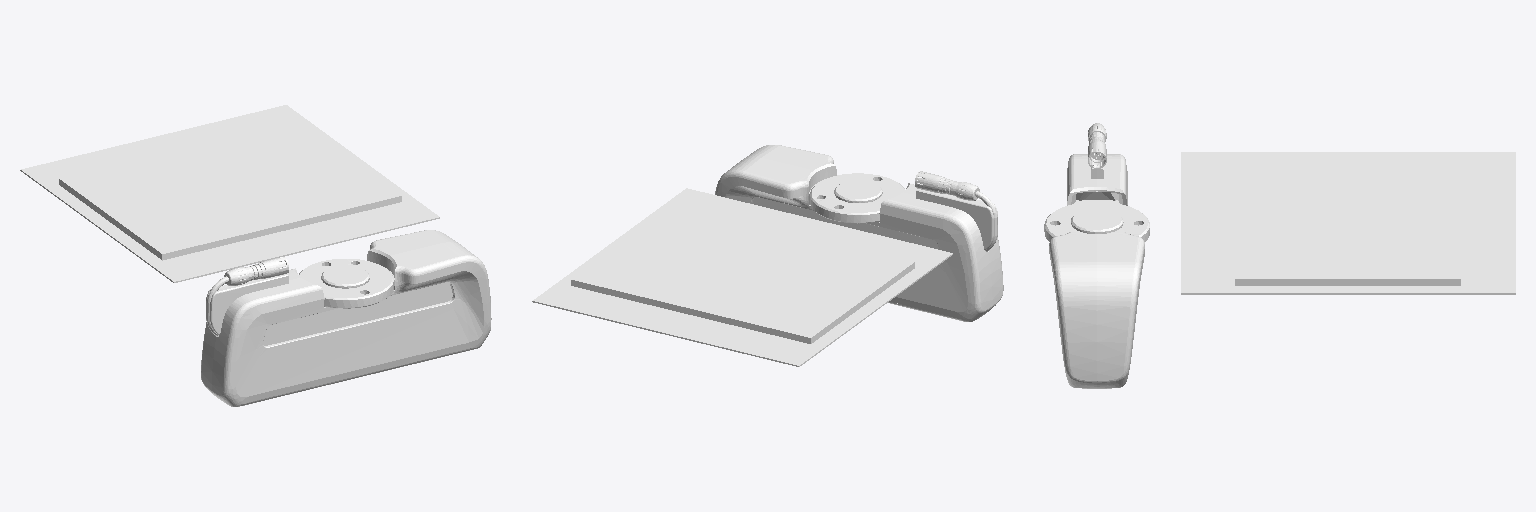
URDF robot description (panda):
<?xml version="1.0" ?>
<!-- =================================================================================== -->
<!-- |    This document was autogenerated by xacro from panda_arm_hand.urdf.xacro      | -->
<!-- |    EDITING THIS FILE BY HAND IS NOT RECOMMENDED                                 | -->
<!-- =================================================================================== -->
<robot name="panda" xmlns:xacro="http://www.ros.org/wiki/xacro">
  <link name="panda_link0">
    <visual>
      <geometry>
        <mesh filename="meshes/visual/link0.obj"/>
      </geometry>
      <material name="panda_white"/>
    </visual>
    <collision>
      <geometry>
        <mesh filename="meshes/collision/link0.obj"/>
      </geometry>
      <material name="panda_white"/>
    </collision>
  </link>
  <link name="panda_link1">
    <visual>
      <geometry>
        <mesh filename="meshes/visual/link1.obj"/>
      </geometry>
      <material name="panda_white"/>
    </visual>
    <collision>
      <geometry>
        <mesh filename="meshes/collision/link1.obj"/>
      </geometry>
      <material name="panda_white"/>
    </collision>
  </link>
  <joint name="panda_joint1" type="revolute">
    <safety_controller k_position="100.0" k_velocity="40.0" soft_lower_limit="-2.8973" soft_upper_limit="2.8973"/>
    <origin rpy="0 0 0" xyz="0 0 0.333"/>
    <parent link="panda_link0"/>
    <child link="panda_link1"/>
    <axis xyz="0 0 1"/>
    <limit effort="87" lower="-2.9671" upper="2.9671" velocity="2.1750"/>
  </joint>
  <link name="panda_link2">
    <visual>
      <geometry>
        <mesh filename="meshes/visual/link2.obj"/>
      </geometry>
      <material name="panda_white"/>
    </visual>
    <collision>
      <geometry>
        <mesh filename="meshes/collision/link2.obj"/>
      </geometry>
      <material name="panda_white"/>
    </collision>
  </link>
  <joint name="panda_joint2" type="revolute">
    <safety_controller k_position="100.0" k_velocity="40.0" soft_lower_limit="-1.7628" soft_upper_limit="1.7628"/>
    <origin rpy="-1.57079632679 0 0" xyz="0 0 0"/>
    <parent link="panda_link1"/>
    <child link="panda_link2"/>
    <axis xyz="0 0 1"/>
    <limit effort="87" lower="-1.8326" upper="1.8326" velocity="2.1750"/>
  </joint>
  <link name="panda_link3">
    <visual>
      <geometry>
        <mesh filename="meshes/visual/link3.obj"/>
      </geometry>
      <material name="panda_white"/>
    </visual>
    <collision>
      <geometry>
        <mesh filename="meshes/collision/link3.obj"/>
      </geometry>
      <material name="panda_white"/>
    </collision>
  </link>
  <joint name="panda_joint3" type="revolute">
    <safety_controller k_position="100.0" k_velocity="40.0" soft_lower_limit="-2.8973" soft_upper_limit="2.8973"/>
    <origin rpy="1.57079632679 0 0" xyz="0 -0.316 0"/>
    <parent link="panda_link2"/>
    <child link="panda_link3"/>
    <axis xyz="0 0 1"/>
    <limit effort="87" lower="-2.9671" upper="2.9671" velocity="2.1750"/>
  </joint>
  <link name="panda_link4">
    <visual>
      <geometry>
        <mesh filename="meshes/visual/link4.obj"/>
      </geometry>
      <material name="panda_white"/>
    </visual>
    <collision>
      <geometry>
        <mesh filename="meshes/collision/link4.obj"/>
      </geometry>
      <material name="panda_white"/>
    </collision>
  </link>
  <joint name="panda_joint4" type="revolute">
    <safety_controller k_position="100.0" k_velocity="40.0" soft_lower_limit="-3.0718" soft_upper_limit="-0.0698"/>
    <origin rpy="1.57079632679 0 0" xyz="0.0825 0 0"/>
    <parent link="panda_link3"/>
    <child link="panda_link4"/>
    <axis xyz="0 0 1"/>
    <limit effort="87" lower="-3.1416" upper="0.0" velocity="2.1750"/>
  </joint>
  <link name="panda_link5">
    <visual>
      <geometry>
        <mesh filename="meshes/visual/link5.obj"/>
      </geometry>
      <material name="panda_white"/>
    </visual>
    <collision>
      <geometry>
        <mesh filename="meshes/collision/link5.obj"/>
      </geometry>
      <material name="panda_white"/>
    </collision>
  </link>
  <joint name="panda_joint5" type="revolute">
    <safety_controller k_position="100.0" k_velocity="40.0" soft_lower_limit="-2.8973" soft_upper_limit="2.8973"/>
    <origin rpy="-1.57079632679 0 0" xyz="-0.0825 0.384 0"/>
    <parent link="panda_link4"/>
    <child link="panda_link5"/>
    <axis xyz="0 0 1"/>
    <limit effort="12" lower="-2.9671" upper="2.9671" velocity="2.6100"/>
  </joint>
  <link name="panda_link6">
    <visual>
      <geometry>
        <mesh filename="meshes/visual/link6.obj"/>
      </geometry>
      <material name="panda_white"/>
    </visual>
    <collision>
      <geometry>
        <mesh filename="meshes/collision/link6.obj"/>
      </geometry>
      <material name="panda_white"/>
    </collision>
  </link>
  <joint name="panda_joint6" type="revolute">
    <safety_controller k_position="100.0" k_velocity="40.0" soft_lower_limit="-0.0175" soft_upper_limit="3.7525"/>
    <origin rpy="1.57079632679 0 0" xyz="0 0 0"/>
    <parent link="panda_link5"/>
    <child link="panda_link6"/>
    <axis xyz="0 0 1"/>
    <limit effort="12" lower="-0.0873" upper="3.8223" velocity="2.6100"/>
  </joint>
  <link name="panda_link7">
    <visual>
      <geometry>
        <mesh filename="meshes/visual/link7.obj"/>
      </geometry>
      <material name="panda_white"/>
    </visual>
    <collision>
      <geometry>
        <mesh filename="meshes/collision/link7.obj"/>
      </geometry>
      <material name="panda_white"/>
    </collision>
  </link>
  <joint name="panda_joint7" type="revolute">
    <safety_controller k_position="100.0" k_velocity="40.0" soft_lower_limit="-2.8973" soft_upper_limit="2.8973"/>
    <origin rpy="1.57079632679 0 0" xyz="0.088 0 0"/>
    <parent link="panda_link6"/>
    <child link="panda_link7"/>
    <axis xyz="0 0 1"/>
    <limit effort="12" lower="-2.9671" upper="2.9671" velocity="2.6100"/>
  </joint>
  <link name="panda_link8"/>
  <joint name="panda_joint8" type="fixed">
    <origin rpy="0 0 0" xyz="0 0 0.107"/>
    <parent link="panda_link7"/>
    <child link="panda_link8"/>
    <axis xyz="0 0 0"/>
  </joint>
  <joint name="panda_hand_joint" type="fixed">
    <parent link="panda_link8"/>
    <child link="panda_hand"/>
    <origin rpy="0 0 0" xyz="0 0 0"/>
  </joint>
  <link name="panda_hand">
    <visual>
      <geometry>
        <mesh filename="meshes/visual/hand.obj"/>
      </geometry>
      <material name="panda_white"/>
    </visual>
    <collision>
      <geometry>
        <mesh filename="meshes/collision/hand.obj"/>
      </geometry>
      <material name="panda_white"/>
    </collision>
  </link>
  <link name="panda_camera">

  </link>
  <link name="panda_calibration">
    <visual>
      <geometry>
        <mesh filename="meshes/visual/calibration_panda.obj"/>
      </geometry>
      <material name="panda_white"/>
    </visual>
    <collision>
      <geometry>
        <mesh filename="meshes/visual/calibration_panda.obj"/>
      </geometry>
      <material name="panda_white"/>
    </collision>
  </link>
  <link name="panda_leftfinger">
    <visual>
      <geometry>
        <mesh filename="meshes/visual/finger.obj"/>
      </geometry>
      <material name="panda_white"/>
    </visual>
    <collision>
      <geometry>
        <mesh filename="meshes/collision/finger.obj"/>
      </geometry>
      <material name="panda_white"/>
    </collision>
  </link>
  <link name="panda_rightfinger">
    <visual>
      <origin rpy="0 0 3.14159265359" xyz="0 0 0"/>
      <geometry>
        <mesh filename="meshes/visual/finger.obj"/>
      </geometry>
      <material name="panda_white"/>
    </visual>
    <collision>
      <origin rpy="0 0 3.14159265359" xyz="0 0 0"/>
      <geometry>
        <mesh filename="meshes/collision/finger.obj"/>
      </geometry>
      <material name="panda_white"/>
    </collision>
  </link>
  
  
  <joint name="panda_camera" type="fixed">
    <parent link="panda_hand"/>
    <child link="panda_camera"/>
    <origin rpy="0 0 0" xyz="0.1 0 0"/>
  </joint>
  
   <joint name="panda_calibration" type="fixed">
    <parent link="panda_hand"/>
    <child link="panda_calibration"/>
    <origin rpy="0 0 0" xyz="0 -0.15 0"/>
  </joint>
  <joint name="panda_finger_joint1" type="prismatic">
    <parent link="panda_hand"/>
    <child link="panda_leftfinger"/>
    <origin rpy="0 0 1.57079632679" xyz="0 0 0.0584"/>
    <axis xyz="0 1 0"/>
    <limit effort="20" lower="0.0" upper="0.04" velocity="0.2"/>
  </joint>
  <joint name="panda_finger_joint2" type="prismatic">
    <parent link="panda_hand"/>
    <child link="panda_rightfinger"/>
    <origin rpy="0 0 1.57079632679" xyz="0 0 0.0584"/>
    <axis xyz="0 -1 0"/>
    <limit effort="20" lower="0.0" upper="0.04" velocity="0.2"/>
    <mimic joint="panda_finger_joint1"/>
  </joint>
  <material name="panda_white">
    <color rgba="1. 1. 1. 1."/>
  </material>
</robot>

--- What the picture shows (computed from the rendered views, not written in the file) ---
3 views of the same robot in one strip: view 1: azimuth 30°, elevation 25°; view 2: azimuth 150°, elevation 25°; view 3: azimuth 270°, elevation 25° (orthographic).
Model panda with 14 links and 13 joints (7 revolute, 2 prismatic, 4 fixed), rooted at panda_link0, posed every joint at zero.
Visible links, largest first — view 1: panda_calibration, panda_hand; view 2: panda_calibration, panda_hand; view 3: panda_calibration, panda_hand.
Link boxes in pixels (x1=…): panda_calibration: x1=20, y1=105, x2=439, y2=282; panda_hand: x1=201, y1=230, x2=491, y2=406; panda_calibration: x1=532, y1=188, x2=952, y2=366; panda_hand: x1=715, y1=145, x2=1003, y2=321; panda_calibration: x1=1181, y1=152, x2=1515, y2=294; panda_hand: x1=1044, y1=123, x2=1149, y2=388.
Bounding box of the posed robot: 0.2045 × 0.2815 × 0.0919 m (x, y, z).
2 mesh visuals loaded from 11 distinct referenced files (2 OBJ); not drawn: 10 (reference not matched to a file when rendering).